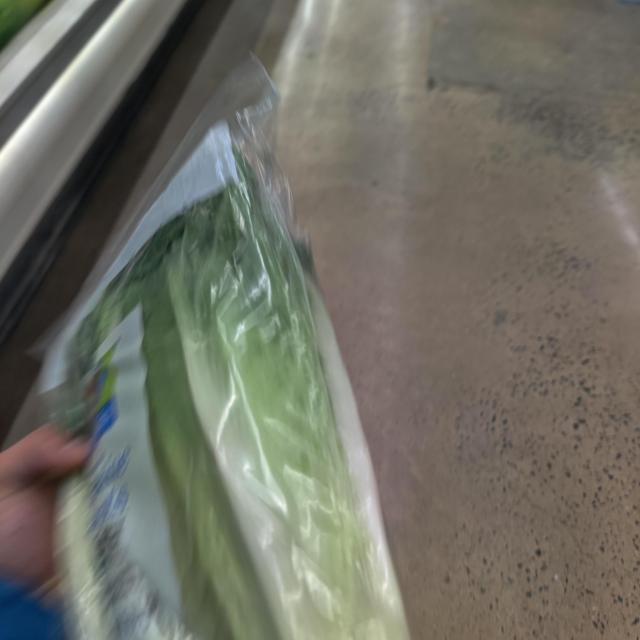Lettuce: (0, 113, 448, 640)
